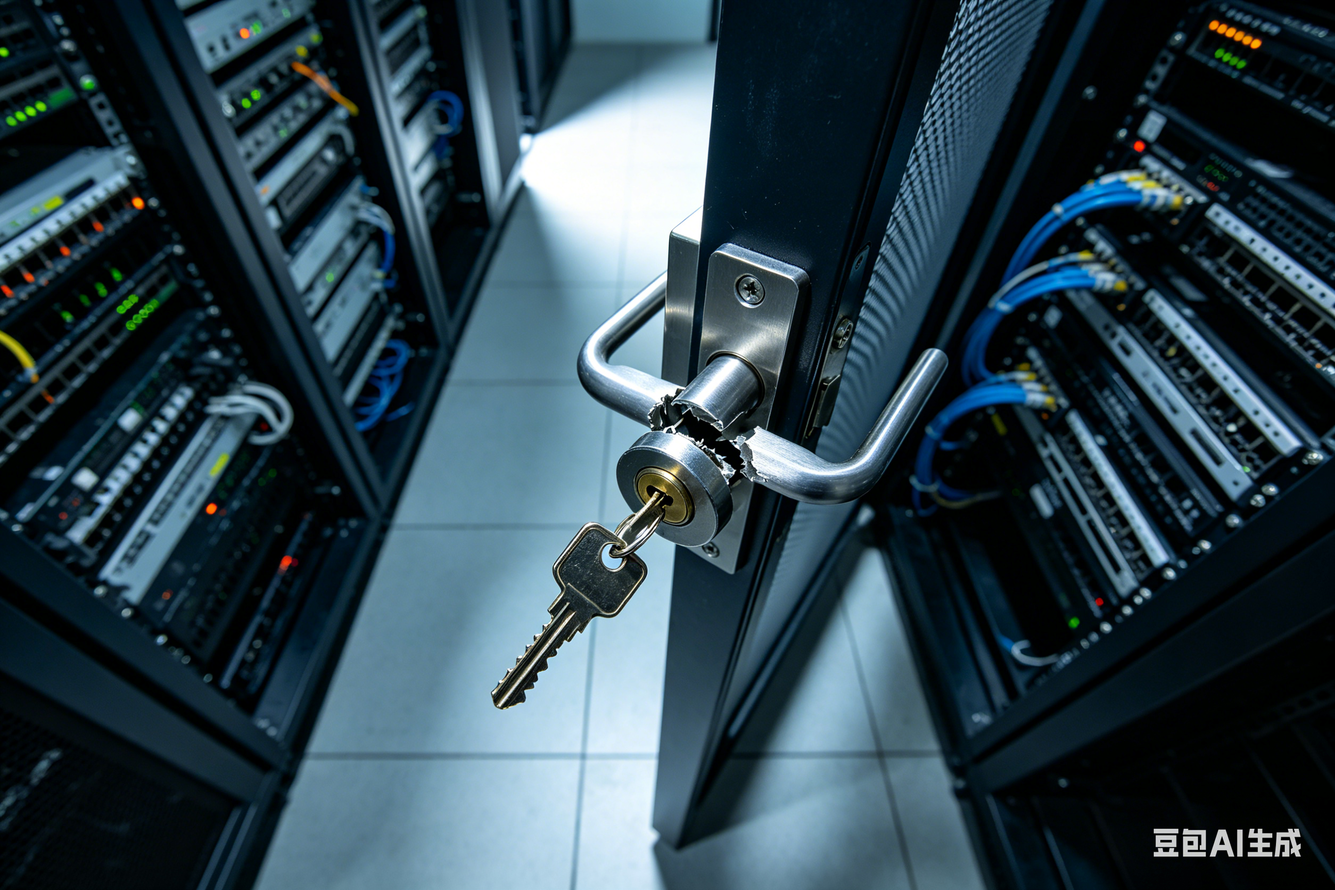BadLock: (620, 353, 761, 495)
